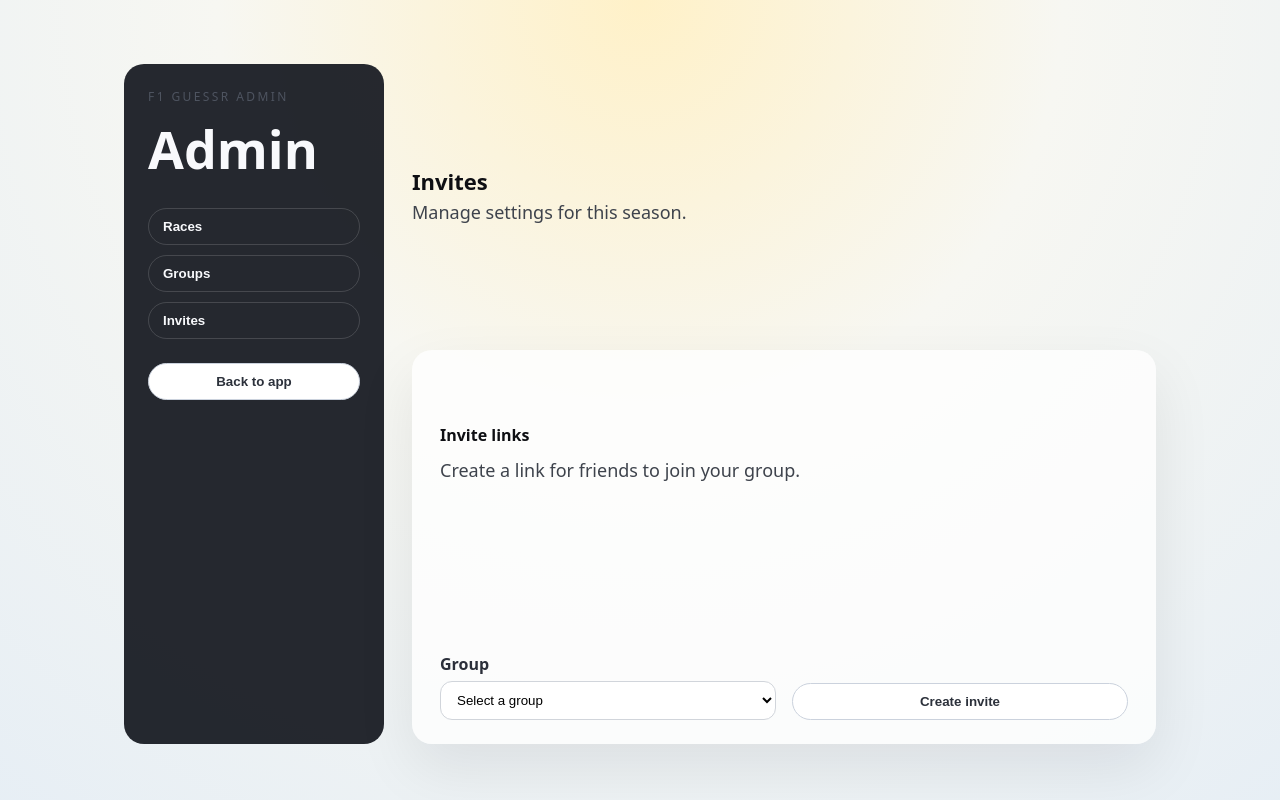
Test case: AdminInviteManager › creates invite for selected group
Select "Friends" in the dropdown labelled "Group" at (608, 700), box 440,681 -> 776,720
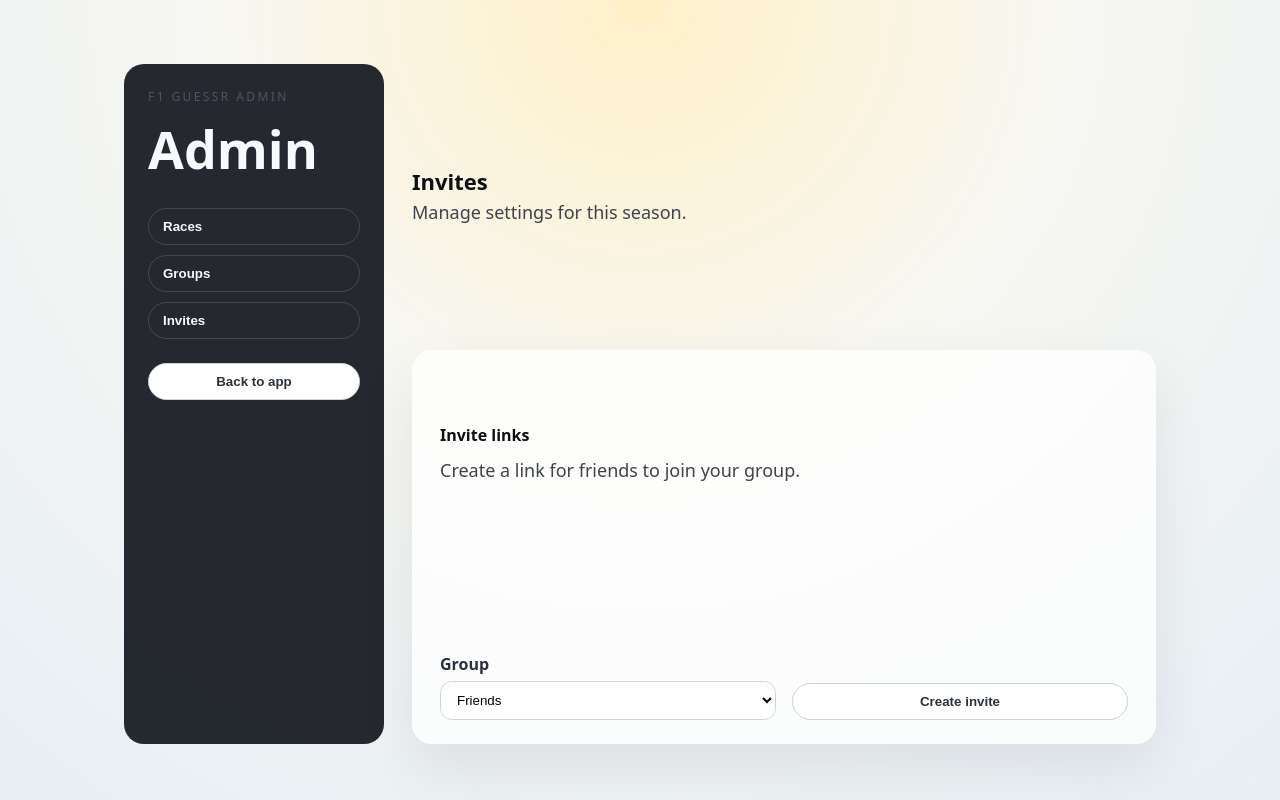
Click the button "Create invite" at (960, 702), box 792,683 -> 1128,720
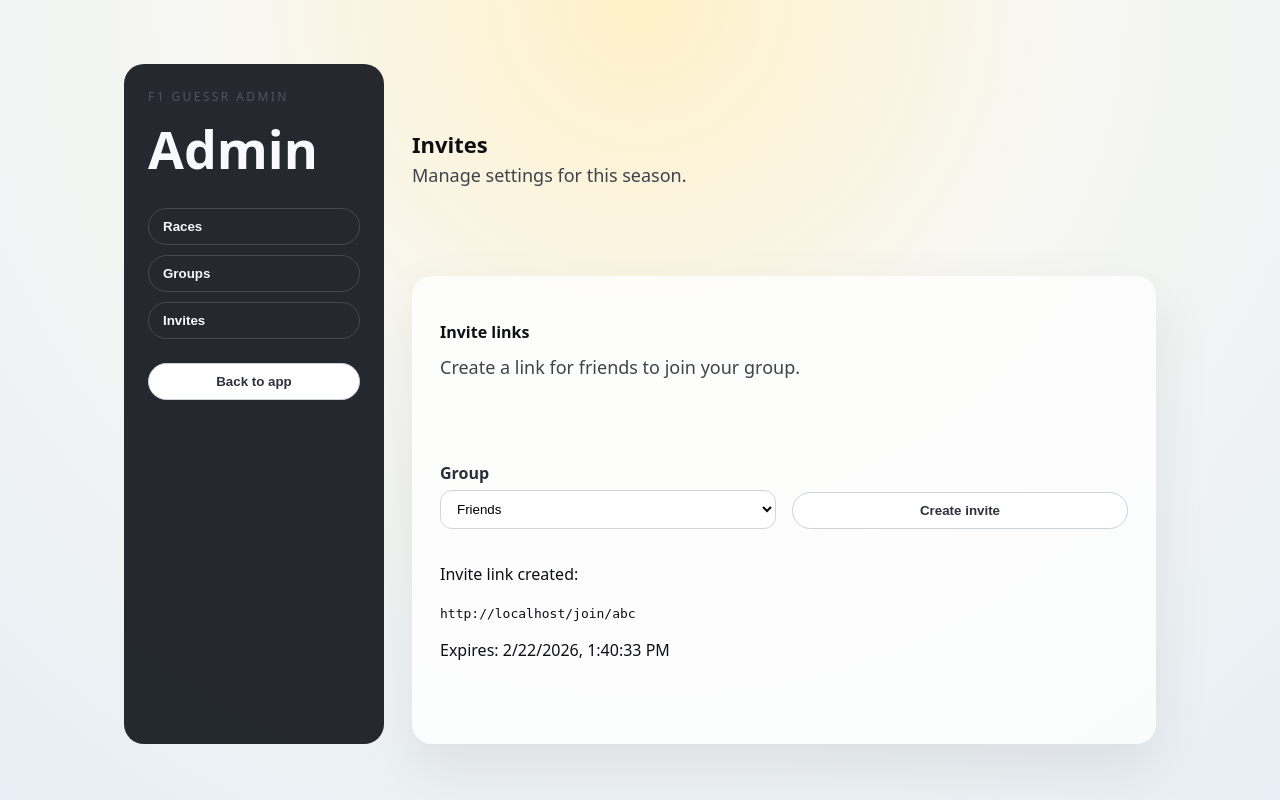
Expected: the text "Invite link created:" is shown, 440,563 -> 578,585
